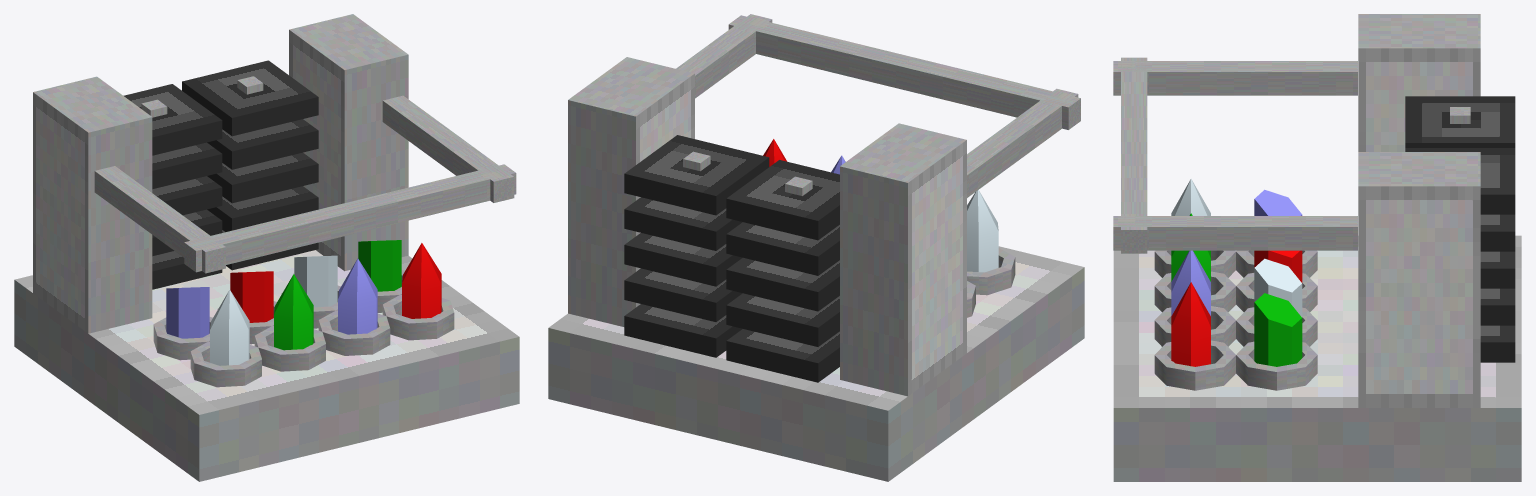
File: research.obj
3 renders of one model, left to right at view 1: azimuth 30°, elevation 25°; view 2: azimuth 150°, elevation 25°; view 3: azimuth 270°, elevation 25°, orthographic. The views are drawn at different scales.
Visible parts, largest first — view 1: g0, g11_group, g4_group, g13_group, g12_group, g14_group, g5_group, g6_group, g8_group, g7_group, g15_group; view 2: g0, g11_group, g4_group, g6_group, g7_group, g8_group, g5_group, g12_group, g15_group, g14_group, g13_group; view 3: g0, g4_group, g11_group, g12_group, g13_group, g14_group, g15_group.
Boxes of the visible parts, bbox=[...] form: g0: bbox=[14, 14, 519, 481]; g11_group: bbox=[182, 60, 318, 136]; g4_group: bbox=[123, 84, 222, 155]; g13_group: bbox=[207, 152, 318, 203]; g12_group: bbox=[207, 119, 318, 169]; g14_group: bbox=[207, 186, 318, 231]; g5_group: bbox=[152, 142, 222, 189]; g6_group: bbox=[152, 176, 222, 215]; g8_group: bbox=[152, 251, 222, 289]; g7_group: bbox=[152, 209, 222, 256]; g15_group: bbox=[222, 230, 318, 270]; g0: bbox=[548, 14, 1084, 481]; g11_group: bbox=[624, 135, 769, 215]; g4_group: bbox=[726, 160, 839, 240]; g6_group: bbox=[726, 257, 839, 311]; g7_group: bbox=[726, 293, 839, 346]; g8_group: bbox=[726, 329, 839, 382]; g5_group: bbox=[726, 222, 839, 275]; g12_group: bbox=[624, 197, 742, 250]; g15_group: bbox=[624, 304, 742, 357]; g14_group: bbox=[624, 268, 742, 321]; g13_group: bbox=[624, 233, 742, 286]; g0: bbox=[1113, 14, 1521, 481]; g4_group: bbox=[1405, 96, 1515, 147]; g11_group: bbox=[1405, 148, 1515, 214]; g12_group: bbox=[1480, 214, 1515, 251]; g13_group: bbox=[1480, 251, 1515, 288]; g14_group: bbox=[1480, 288, 1515, 325]; g15_group: bbox=[1480, 325, 1515, 362].
Bounding box in the file's own units: 1 × 0.8 × 1.
